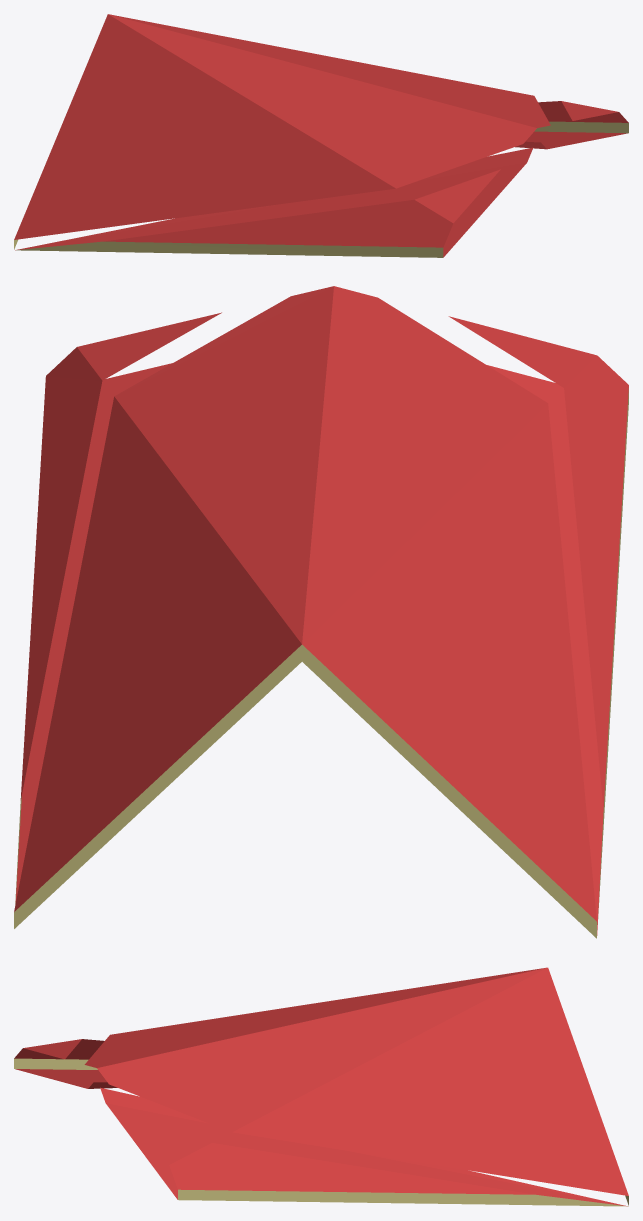
The picture shows the model from 3 angles, top to bottom: view 1: azimuth 30°, elevation 25°; view 2: azimuth 150°, elevation 25°; view 3: azimuth 270°, elevation 25°; orthographic projection. The views are drawn at different scales.
Size of the model in its own units: 4.8 by 5.38 by 1.68.
